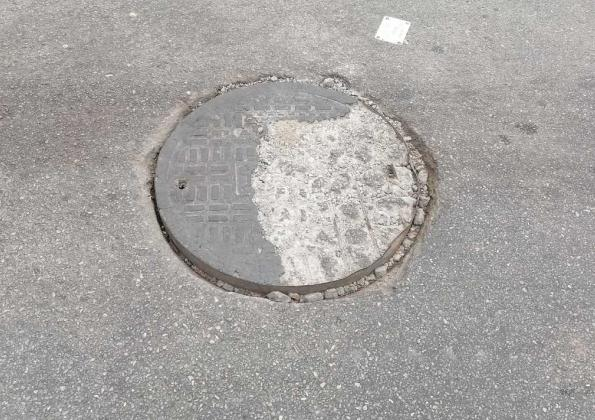circle: (137, 60, 452, 308)
